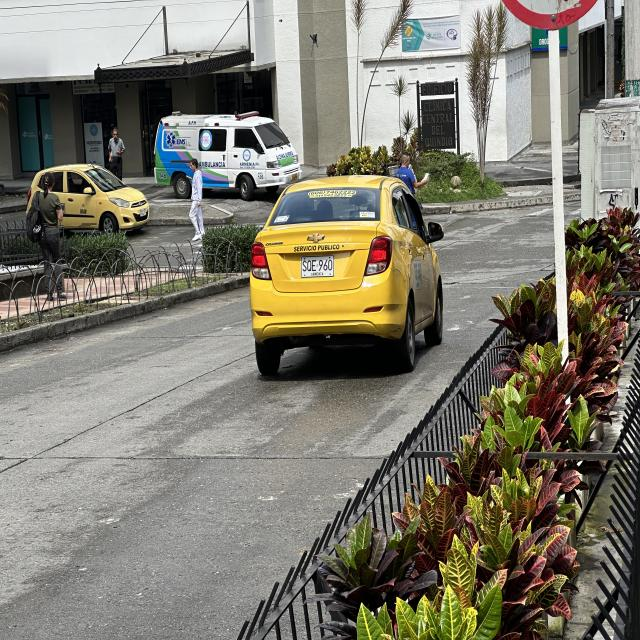number plate: (301, 255, 334, 277)
